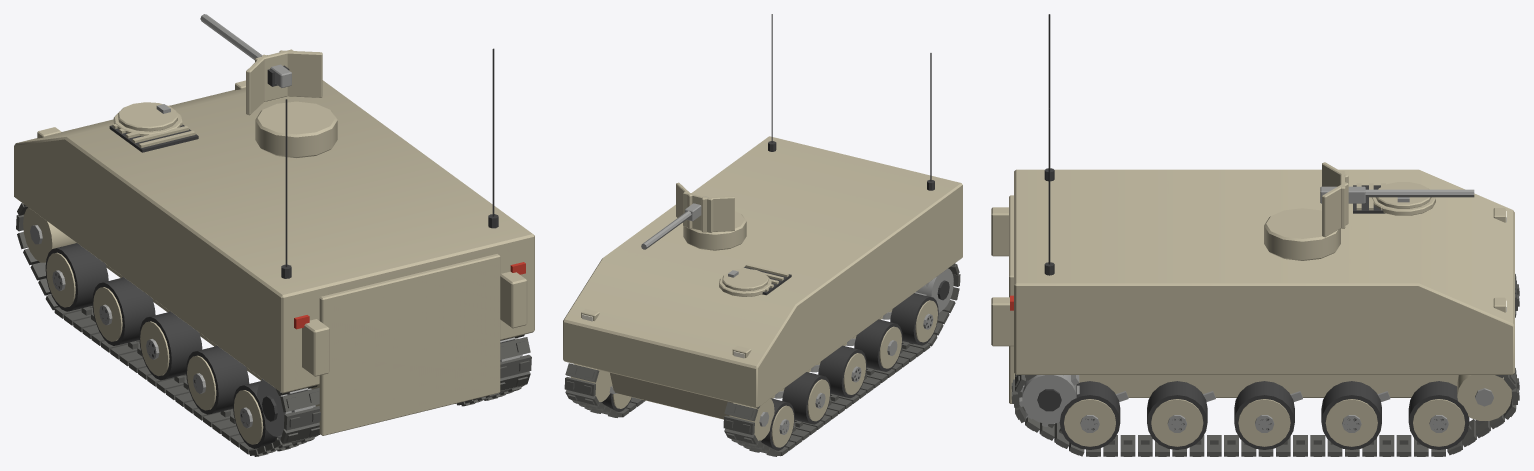
The model's file is usa_apc_113.glb.
3 renders of one model, left to right at view 1: azimuth 30°, elevation 25°; view 2: azimuth 150°, elevation 25°; view 3: azimuth 270°, elevation 25°, orthographic. The views are drawn at different scales.
Visible parts, largest first — view 1: body, turret, barrel; view 2: body, turret, barrel; view 3: body, turret, barrel.
Boxes of the visible parts, box(x1,y1,x2,y2) form: body: box(14, 48, 534, 456); turret: box(246, 49, 322, 115); barrel: box(200, 14, 291, 87); body: box(563, 14, 962, 456); turret: box(676, 182, 734, 232); barrel: box(641, 196, 708, 249); body: box(991, 14, 1519, 456); turret: box(1322, 162, 1348, 237); barrel: box(1320, 186, 1474, 203).
Size of the model in its own units: 2.7 by 3.72 by 5.22.
